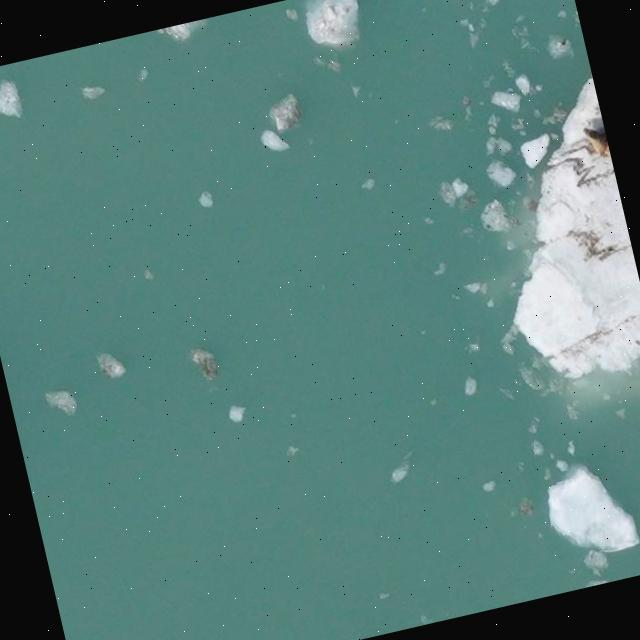seal: (582, 120, 615, 166)
